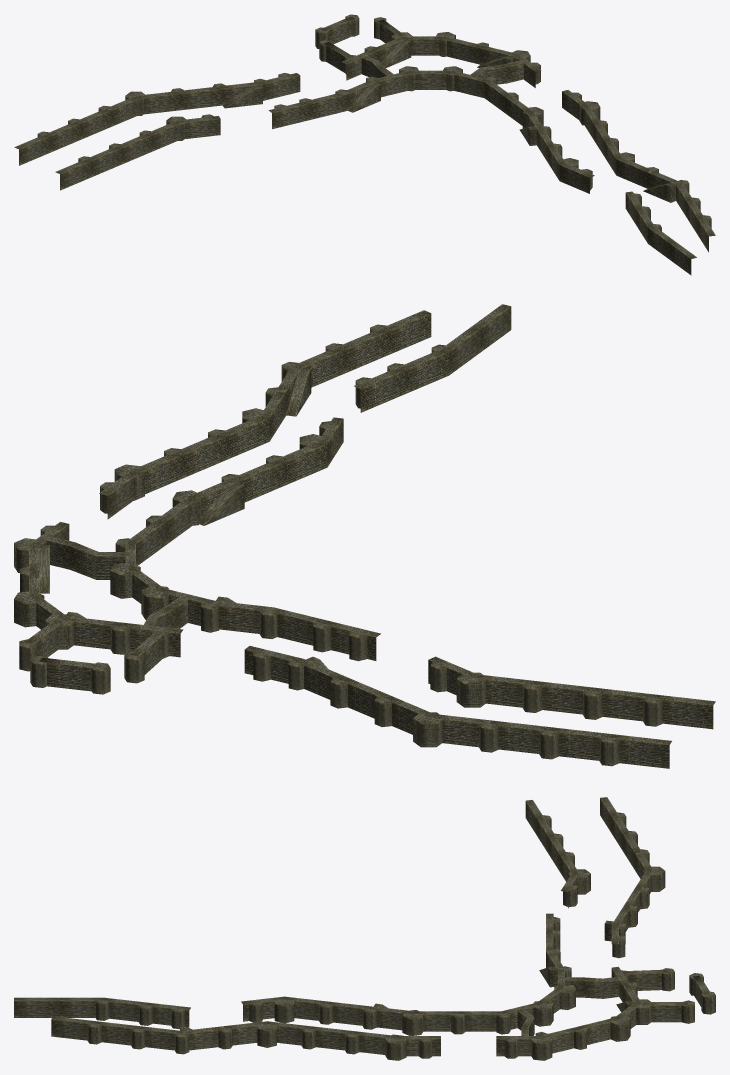
File: OZ_90_nk_mokku01E.glb
3 renders of one model, top to bottom at view 1: azimuth 30°, elevation 25°; view 2: azimuth 150°, elevation 25°; view 3: azimuth 270°, elevation 25°, orthographic. The views are drawn at different scales.
Visible parts, largest first — view 1: OM_90_nk_mokku01E; view 2: OM_90_nk_mokku01E; view 3: OM_90_nk_mokku01E.
Boxes of the visible parts, x1=… form: OM_90_nk_mokku01E: x1=14, y1=14, x2=715, y2=275; OM_90_nk_mokku01E: x1=14, y1=304, x2=715, y2=768; OM_90_nk_mokku01E: x1=14, y1=797, x2=715, y2=1060.
Bounding box in the file's own units: 463 × 15 × 557.
Materials: 1 (1 with a texture image).
